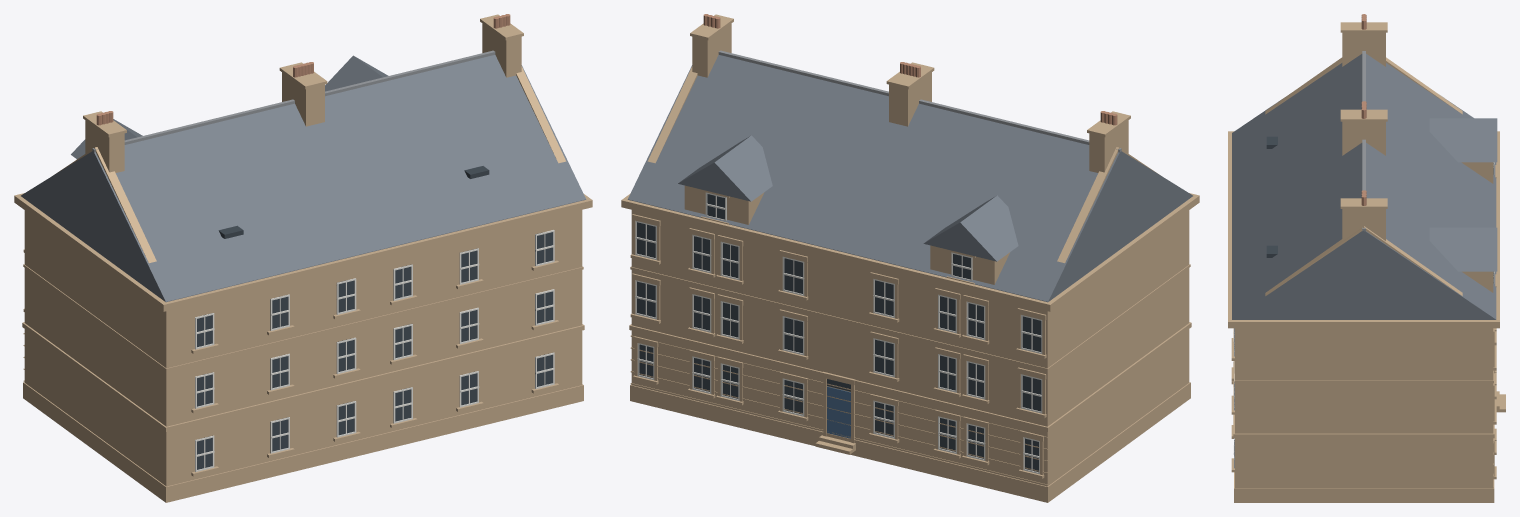
Rendered from tenement3_b.glb.
3 views of the same model, side by side, from view 1: azimuth 30°, elevation 25°; view 2: azimuth 150°, elevation 25°; view 3: azimuth 270°, elevation 25° (orthographic). The views are drawn at different scales.
Visible parts, largest first — view 1: tenement3_b; view 2: tenement3_b; view 3: tenement3_b.
Part boxes in pixels (x1,y1,x2,y2): tenement3_b: (14,14,592,502); tenement3_b: (621,14,1199,502); tenement3_b: (1228,14,1505,502).
Size of the model in its own units: 22.7 by 16.92 by 13.99.
